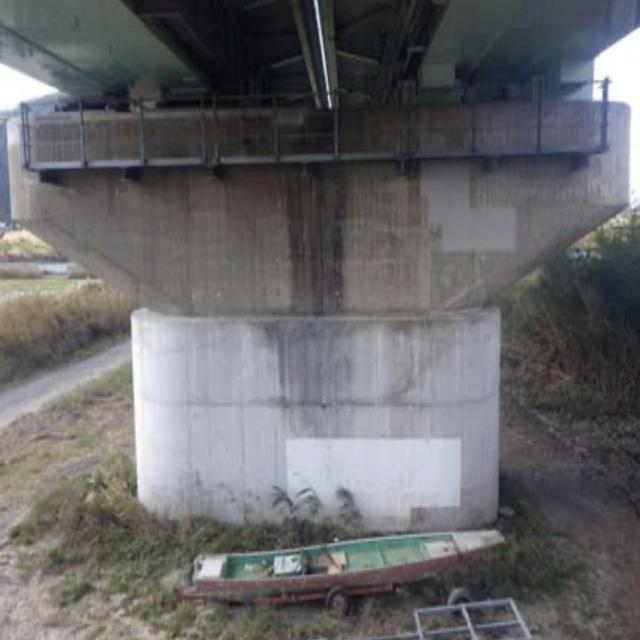leakage: (270, 98, 353, 326)
